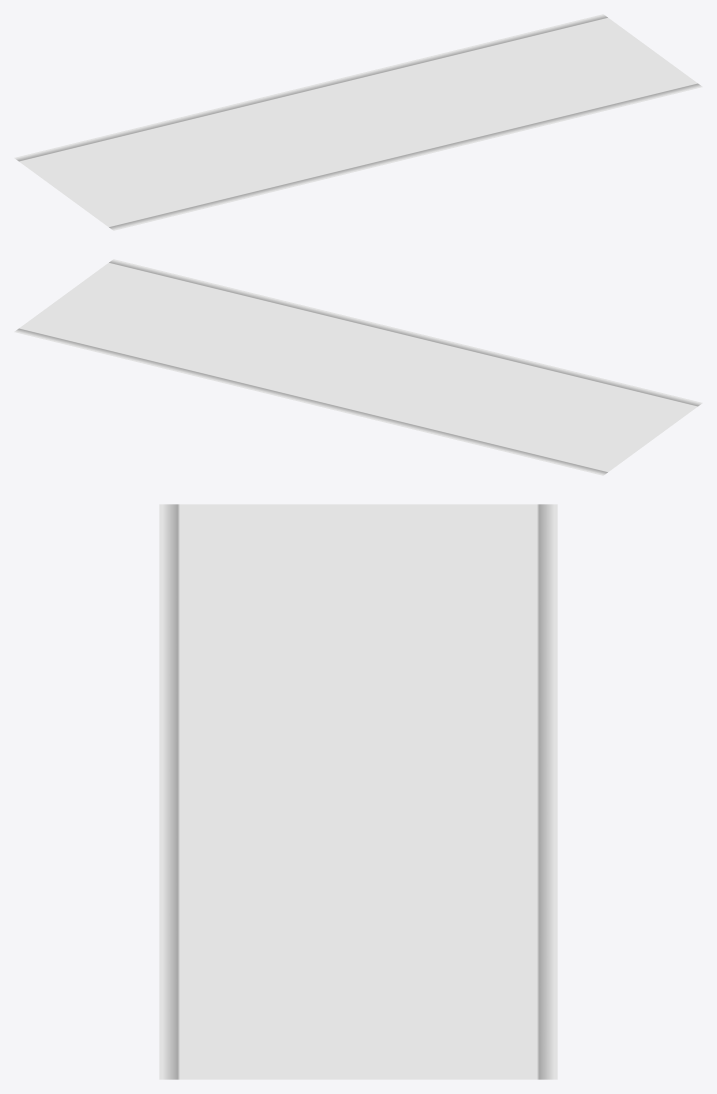
File: Road_2_small.fbx
3 views of the same model, one above another, from view 1: azimuth 30°, elevation 25°; view 2: azimuth 150°, elevation 25°; view 3: azimuth 270°, elevation 25° (orthographic). The views are drawn at different scales.
Parts seen in each view (by area): view 1: Road_2_small; view 2: Road_2_small; view 3: Road_2_small.
Part boxes in pixels (x1,y1,x2,y2): Road_2_small: (14,14,702,230); Road_2_small: (14,259,702,475); Road_2_small: (159,504,557,1079).
Bounding box in the file's own units: 376 × 6.49e-05 × 110.
1 material, 1 textured.
